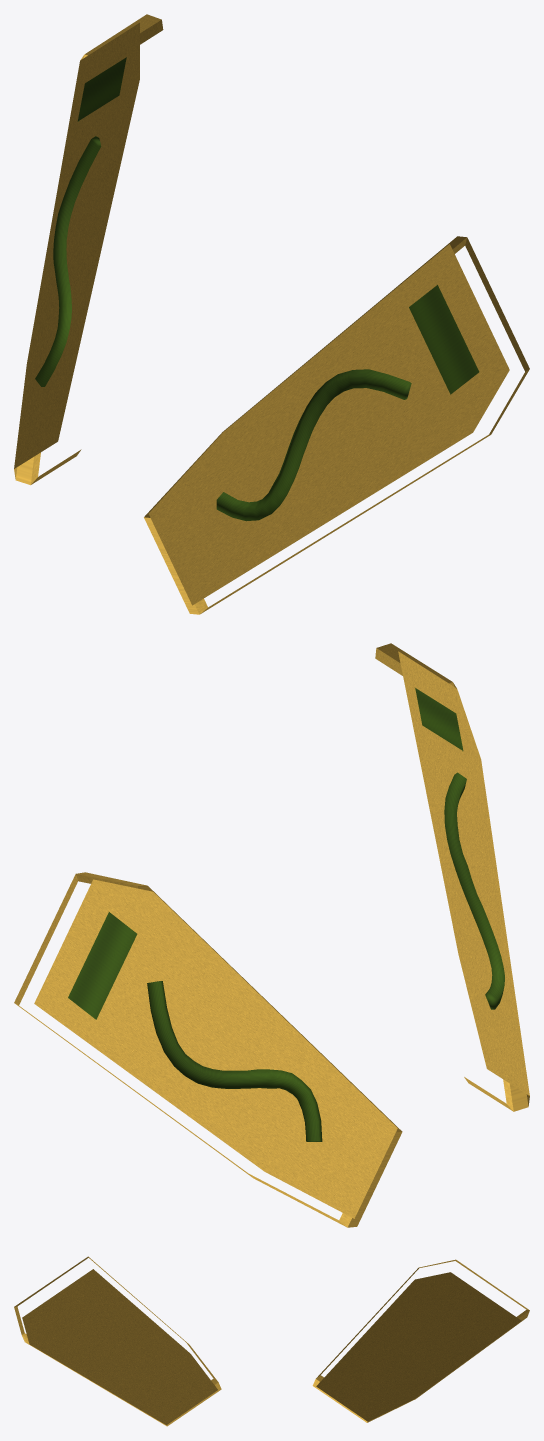
The model's file is beetle_wings.glb.
3 views of the same model, one above another, from view 1: azimuth 30°, elevation 25°; view 2: azimuth 150°, elevation 25°; view 3: azimuth 270°, elevation 25° (orthographic). The views are drawn at different scales.
Parts seen in each view (by area): view 1: Rigid engraved wing blade (×2), Wing scroll inlay (×2), Wing tip inset (×2); view 2: Rigid engraved wing blade (×2), Wing scroll inlay (×2), Wing tip inset (×2); view 3: Rigid engraved wing blade (×2).
Boxes of the visible parts, left/top/right/bottom form: Rigid engraved wing blade (×2): left=14, top=14, right=529, bottom=614; Wing scroll inlay (×2): left=35, top=136, right=411, bottom=521; Wing tip inset (×2): left=77, top=57, right=479, bottom=394; Rigid engraved wing blade (×2): left=14, top=643, right=529, bottom=1227; Wing scroll inlay (×2): left=147, top=772, right=504, bottom=1141; Wing tip inset (×2): left=68, top=688, right=463, bottom=1019; Rigid engraved wing blade (×2): left=14, top=1256, right=529, bottom=1426.
Size of the model in its own units: 62.08 by 104 by 217.
Materials: 2 (2 with a texture image).
